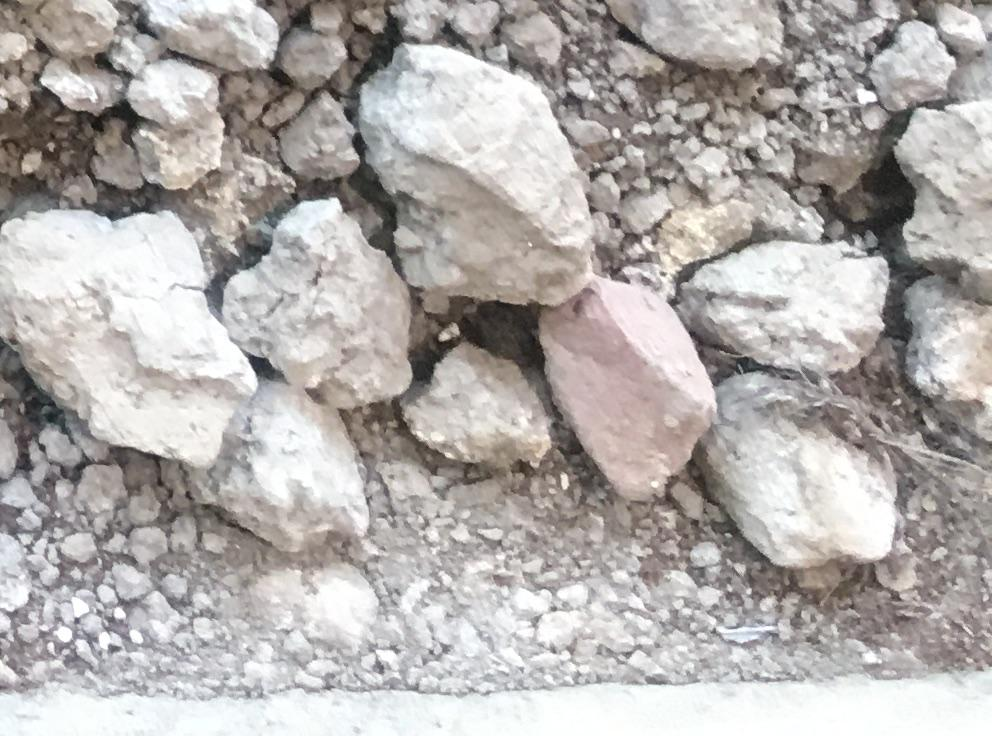block: (354, 40, 601, 307), (5, 205, 243, 473), (531, 275, 712, 510), (218, 195, 411, 397), (172, 379, 373, 546), (679, 235, 889, 376), (405, 326, 548, 479), (894, 98, 992, 281), (904, 272, 992, 432), (604, 2, 789, 76)
